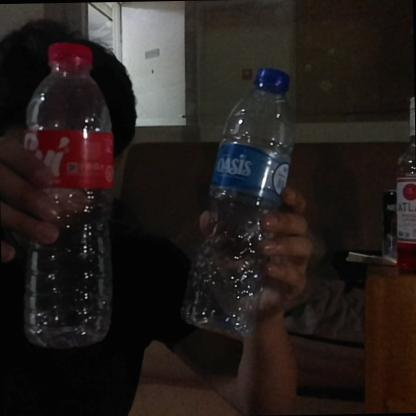plastic_bottles: (180, 65, 302, 335), (20, 36, 113, 344)
